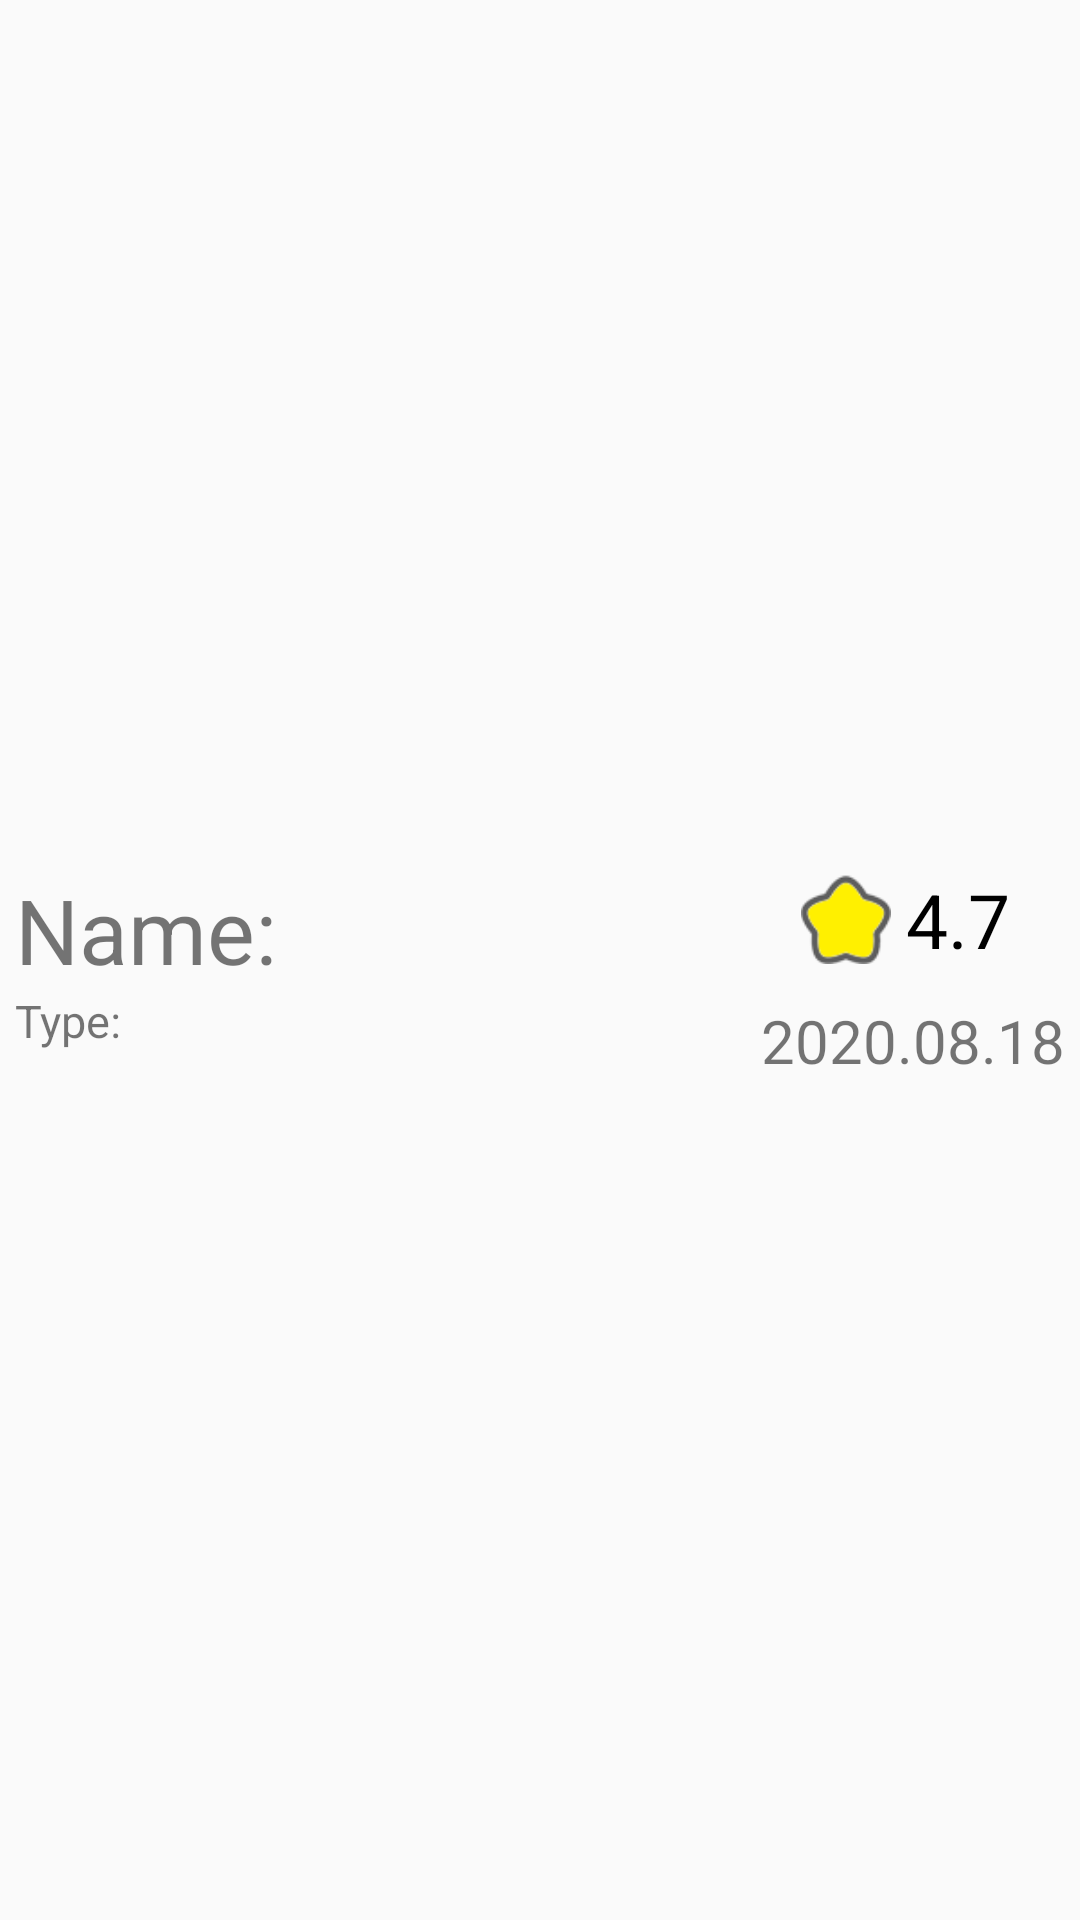

Where icons sit on this 1080px x 1920px app screen, as (x1, y1, x2, y2):
collect: (801, 875, 891, 964)
